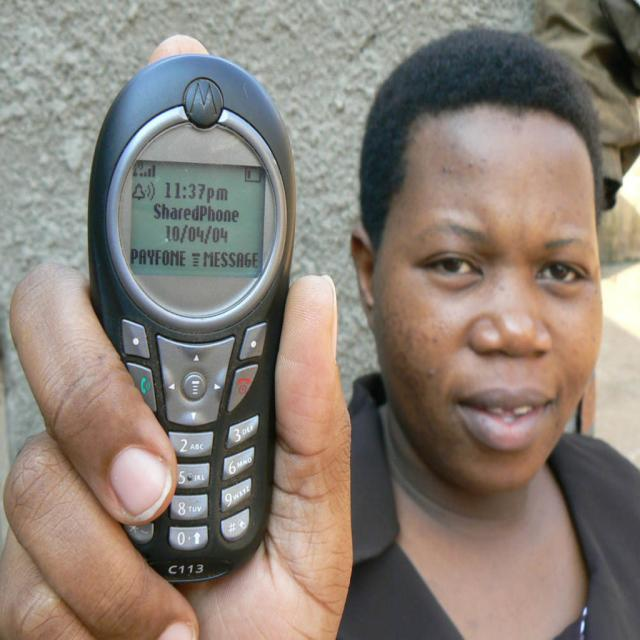Mobile-phone: (70, 26, 320, 623)
